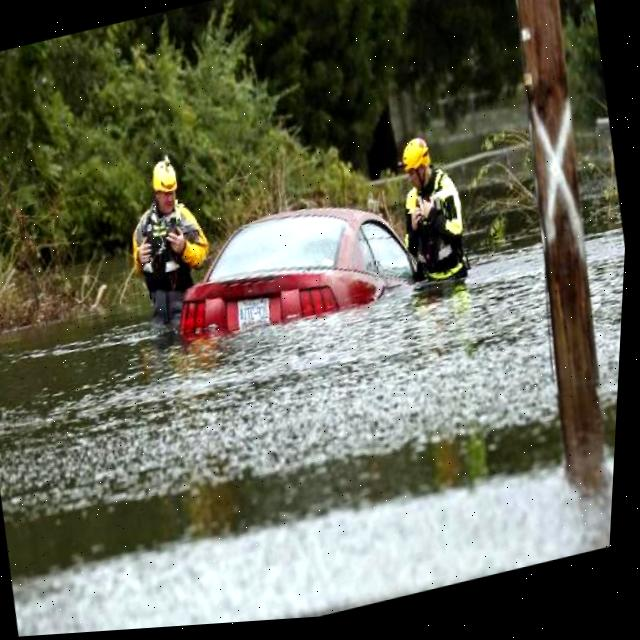rescuer: (94, 134, 236, 354), (368, 109, 493, 299)
